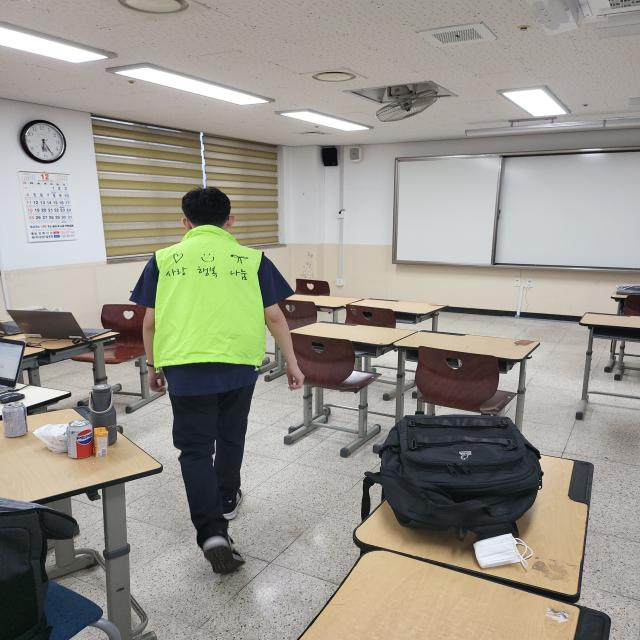weston_spy: (135, 215, 294, 384)
